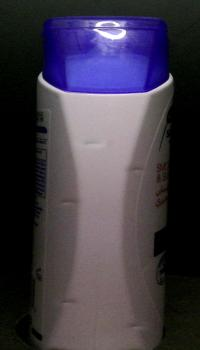dent_marginal: (61, 134, 111, 157), (45, 198, 101, 217), (52, 294, 99, 316), (116, 319, 151, 340), (116, 164, 154, 181)
